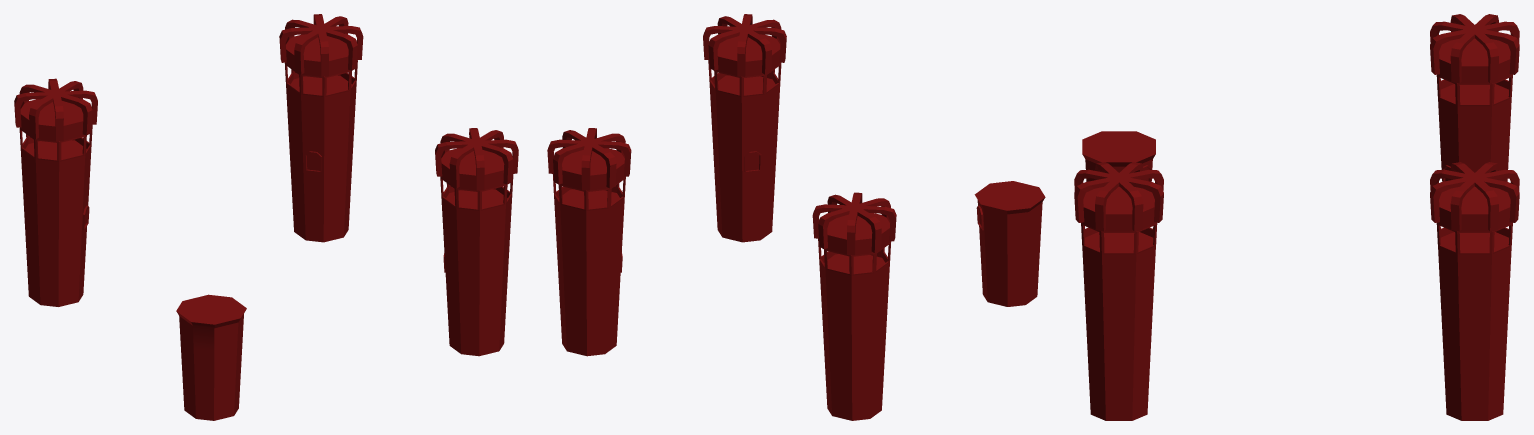
Rendered from SM_Turret.fbx.
3 renders of one model, left to right at view 1: azimuth 30°, elevation 25°; view 2: azimuth 150°, elevation 25°; view 3: azimuth 270°, elevation 25°, orthographic. The views are drawn at different scales.
Parts seen in each view (by area): view 1: SM_Turret; view 2: SM_Turret; view 3: SM_Turret.
Part boxes in pixels (box(x1,y1,x2,y2)): SM_Turret: box(14, 14, 518, 420); SM_Turret: box(547, 14, 1045, 420); SM_Turret: box(1074, 14, 1519, 420).
Bounding box in the file's own units: 178 × 103 × 180.
